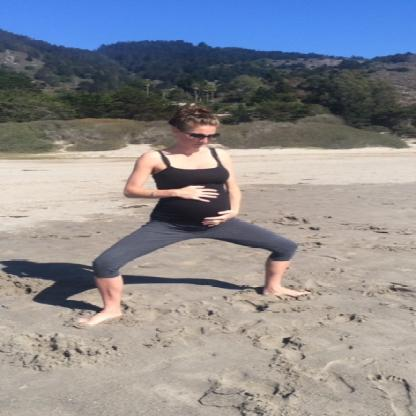godness: (62, 92, 318, 335)
